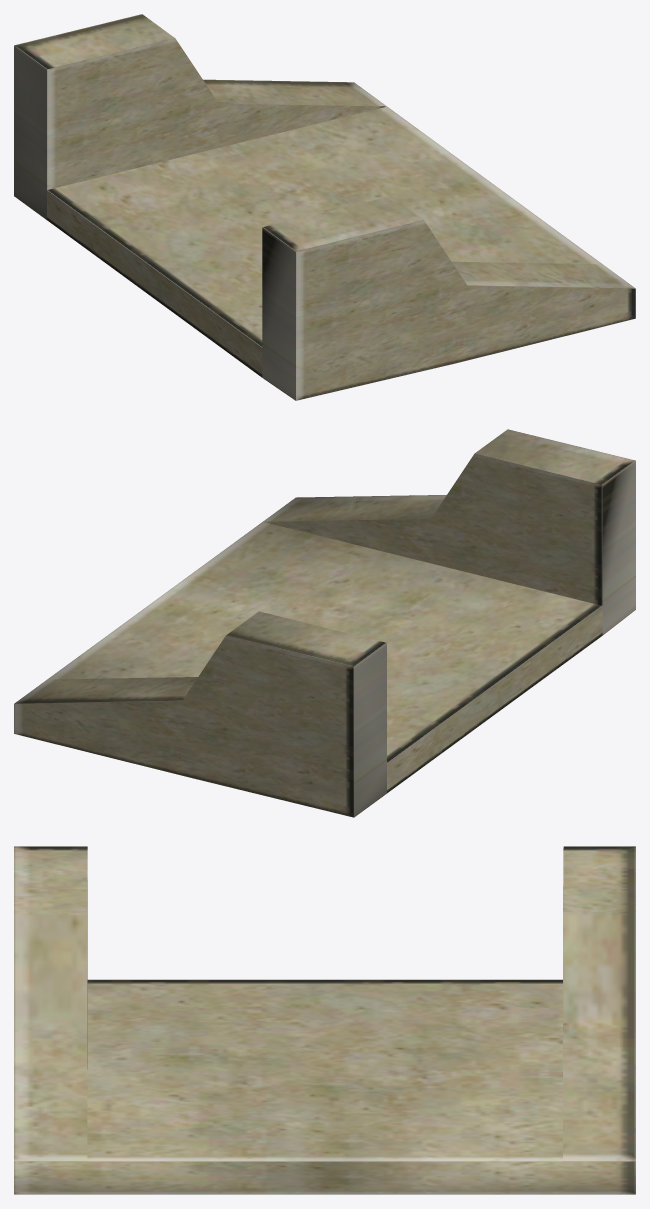
The model's file is DWARF_PALACE_WATERFALL_SPOUT.fbx.
3 views of the same model, one above another, from view 1: azimuth 30°, elevation 25°; view 2: azimuth 150°, elevation 25°; view 3: azimuth 270°, elevation 25° (orthographic). The views are drawn at different scales.
Parts seen in each view (by area): view 1: DWARF_PALACE_WATERFALL_SPOUT; view 2: DWARF_PALACE_WATERFALL_SPOUT; view 3: DWARF_PALACE_WATERFALL_SPOUT.
Part boxes in pixels (<box>): DWARF_PALACE_WATERFALL_SPOUT: <box>14,14,635,400</box>; DWARF_PALACE_WATERFALL_SPOUT: <box>14,429,635,817</box>; DWARF_PALACE_WATERFALL_SPOUT: <box>14,846,635,1194</box>.
Size of the model in its own units: 23751 by 10062 by 34099.
1 material, 1 textured.
